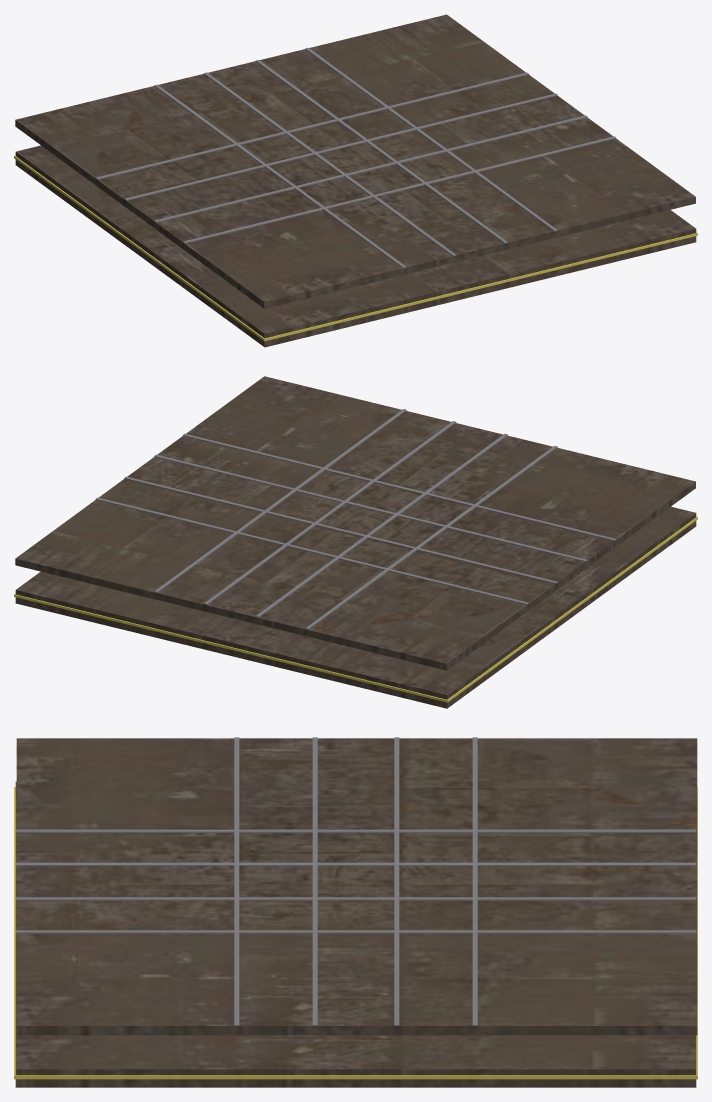
Rendered from conveyor_cross.glb.
The picture shows the model from 3 angles, top to bottom: view 1: azimuth 30°, elevation 25°; view 2: azimuth 150°, elevation 25°; view 3: azimuth 270°, elevation 25°; orthographic projection. The views are drawn at different scales.
Visible parts, largest first — view 1: BeltSurface, BasePlate, HazardStripe, BeltGroove_x3, BeltGroove_x1, BeltGroove_x0, BeltGroove_x2, BeltGroove_y1, BeltGroove_y3, BeltGroove_y2, BeltGroove_y0; view 2: BeltSurface, BasePlate, HazardStripe, BeltGroove_x0, BeltGroove_x2, BeltGroove_x1, BeltGroove_x3, BeltGroove_y0, BeltGroove_y2, BeltGroove_y1, BeltGroove_y3; view 3: BeltSurface, BasePlate, HazardStripe, BeltGroove_y2, BeltGroove_y3, BeltGroove_y1, BeltGroove_y0, BeltGroove_x0, BeltGroove_x1, BeltGroove_x2, BeltGroove_x3.
Boxes of the visible parts, x1,y1,x2,y2 form: BeltSurface: [15, 14, 695, 308]; BasePlate: [15, 145, 696, 347]; HazardStripe: [14, 155, 697, 341]; BeltGroove_x3: [95, 72, 528, 179]; BeltGroove_x1: [154, 115, 587, 222]; BeltGroove_x0: [183, 136, 616, 243]; BeltGroove_x2: [124, 93, 557, 200]; BeltGroove_y1: [204, 72, 456, 256]; BeltGroove_y3: [305, 47, 557, 231]; BeltGroove_y2: [255, 60, 507, 243]; BeltGroove_y0: [154, 84, 406, 268]; BeltSurface: [15, 376, 695, 670]; BasePlate: [15, 506, 696, 708]; HazardStripe: [14, 517, 697, 702]; BeltGroove_x0: [183, 433, 616, 540]; BeltGroove_x2: [124, 476, 557, 583]; BeltGroove_x1: [154, 454, 587, 561]; BeltGroove_x3: [95, 497, 528, 604]; BeltGroove_y0: [305, 446, 557, 629]; BeltGroove_y2: [204, 421, 456, 604]; BeltGroove_y1: [255, 433, 507, 617]; BeltGroove_y3: [154, 409, 406, 592]; BeltSurface: [16, 738, 697, 1035]; BasePlate: [15, 781, 696, 1087]; HazardStripe: [14, 787, 697, 1079]; BeltGroove_y2: [15, 897, 696, 900]; BeltGroove_y3: [15, 930, 696, 933]; BeltGroove_y1: [15, 862, 696, 865]; BeltGroove_y0: [15, 829, 696, 832]; BeltGroove_x0: [234, 737, 239, 1025]; BeltGroove_x1: [312, 737, 317, 1025]; BeltGroove_x2: [394, 737, 399, 1025]; BeltGroove_x3: [472, 737, 477, 1025].
Size of the model in its own units: 1 by 0.102 by 1.
Materials: 4 (2 with a texture image).
